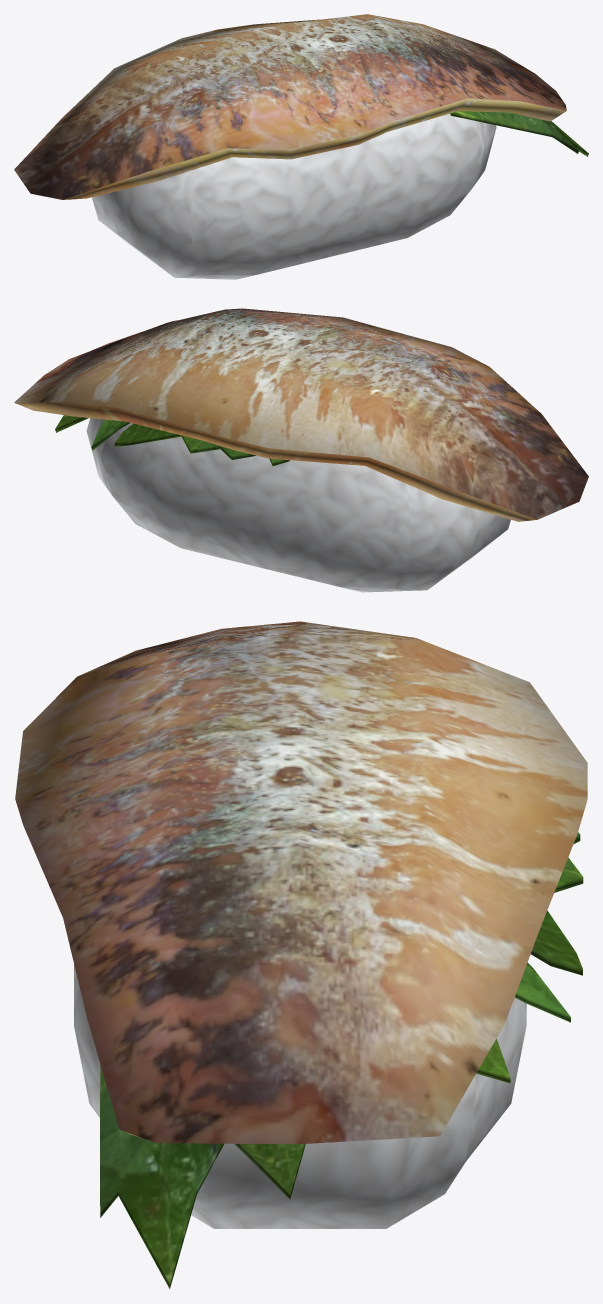
File: horse_mackerel_4.fbx
3 views of the same model, one above another, from view 1: azimuth 30°, elevation 25°; view 2: azimuth 150°, elevation 25°; view 3: azimuth 270°, elevation 25° (orthographic). The views are drawn at different scales.
Parts seen in each view (by area): view 1: horse_mackerel_4; view 2: horse_mackerel_4; view 3: horse_mackerel_4.
Part boxes in pixels (bbox=[...]): horse_mackerel_4: bbox=[14, 14, 588, 279]; horse_mackerel_4: bbox=[14, 308, 588, 592]; horse_mackerel_4: bbox=[15, 621, 587, 1288].
Size of the model in its own units: 8.39 by 3.02 by 3.96.
